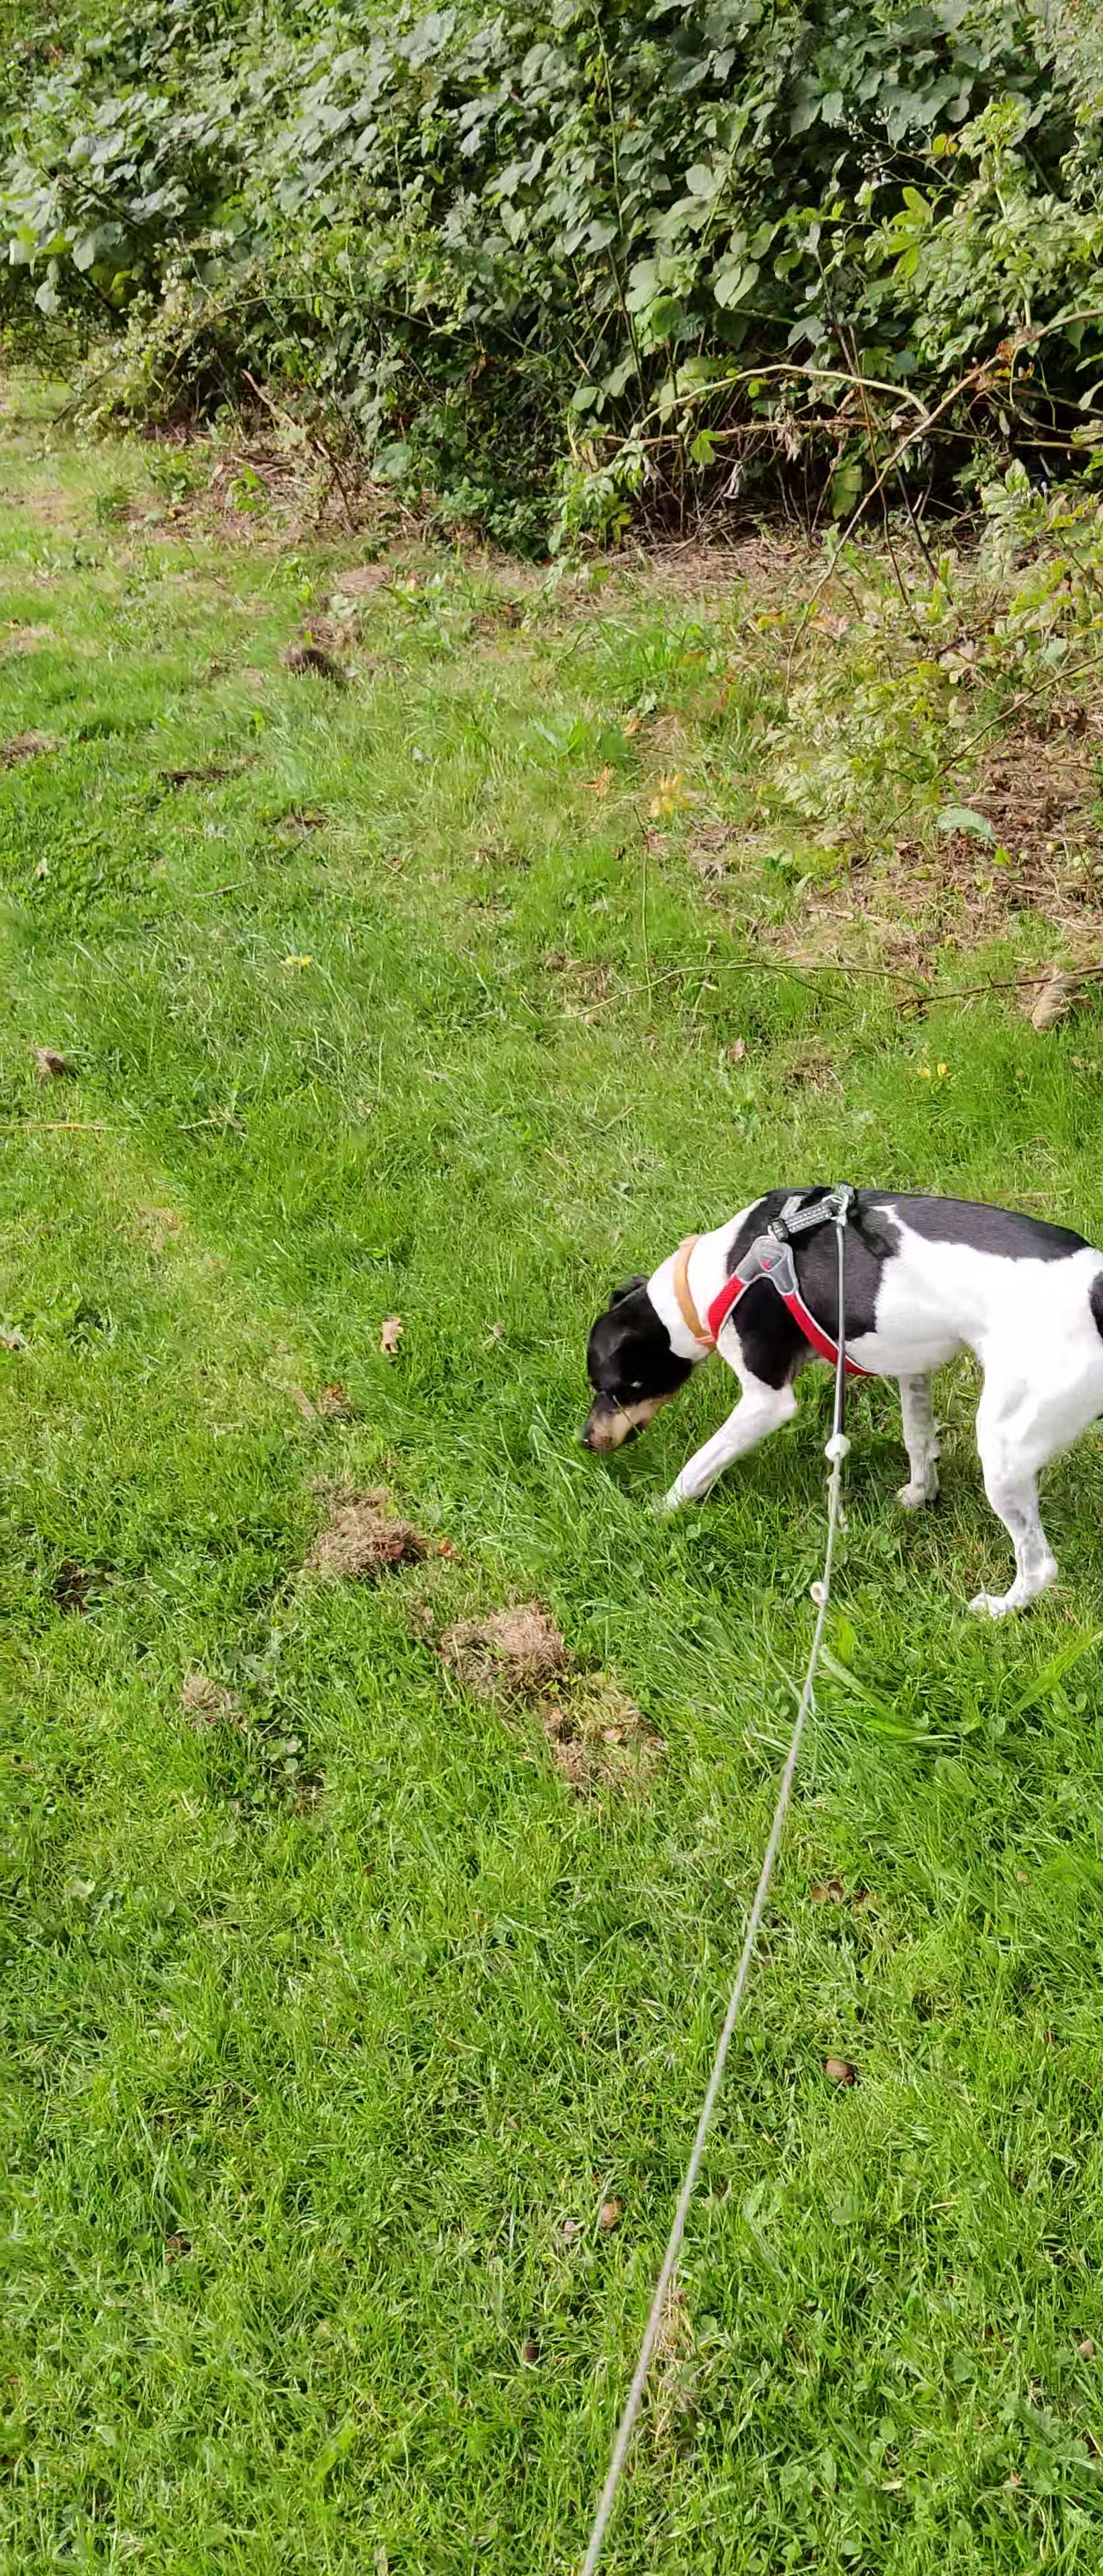Dog: (564, 1170, 1103, 1636)
